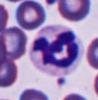N: (30, 24, 84, 77)
